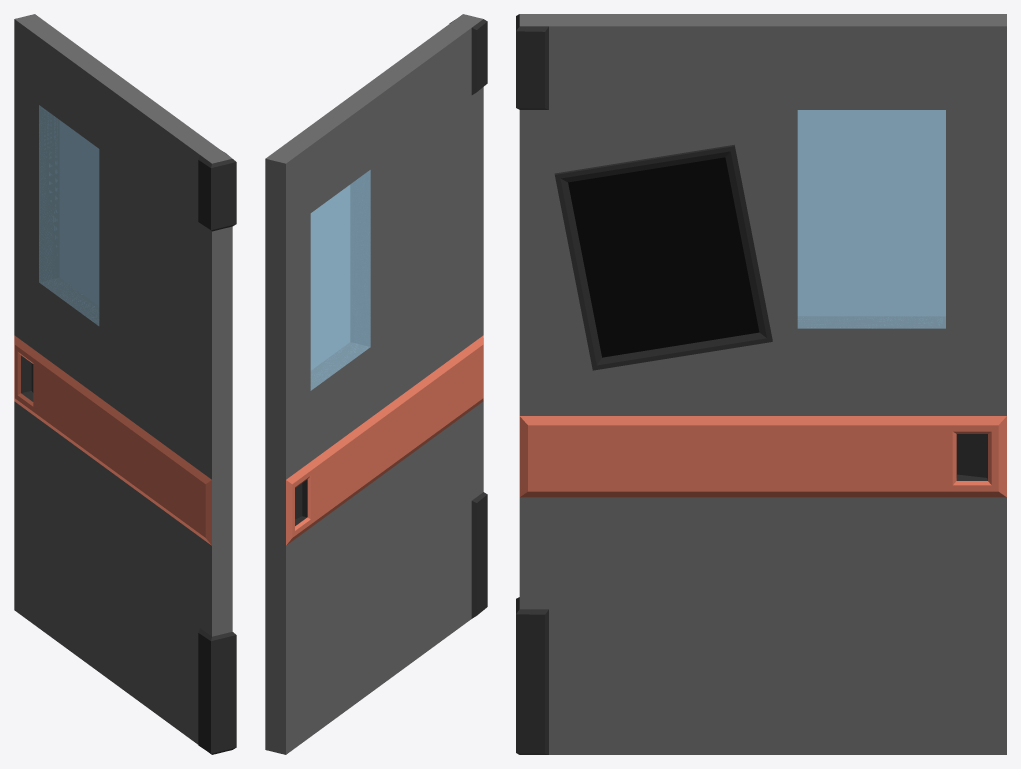
3 views of the same model, side by side, from view 1: azimuth 30°, elevation 25°; view 2: azimuth 150°, elevation 25°; view 3: azimuth 270°, elevation 25° (orthographic). The views are drawn at different scales.
Parts seen in each view (by area): view 1: Door-007, Door-006; view 2: Door-007, Door-006; view 3: Door-007, BlackBoard003, Door-006.
Part boxes in pixels (x1=…): Door-007: x1=14, y1=14, x2=236, y2=754; Door-006: x1=39, y1=105, x2=99, y2=325; Door-007: x1=265, y1=14, x2=487, y2=754; Door-006: x1=310, y1=170, x2=370, y2=390; Door-007: x1=516, y1=14, x2=1006, y2=754; BlackBoard003: x1=554, y1=144, x2=772, y2=370; Door-006: x1=797, y1=110, x2=945, y2=328.
Size of the model in its own units: 2.13 by 44 by 26.86.
